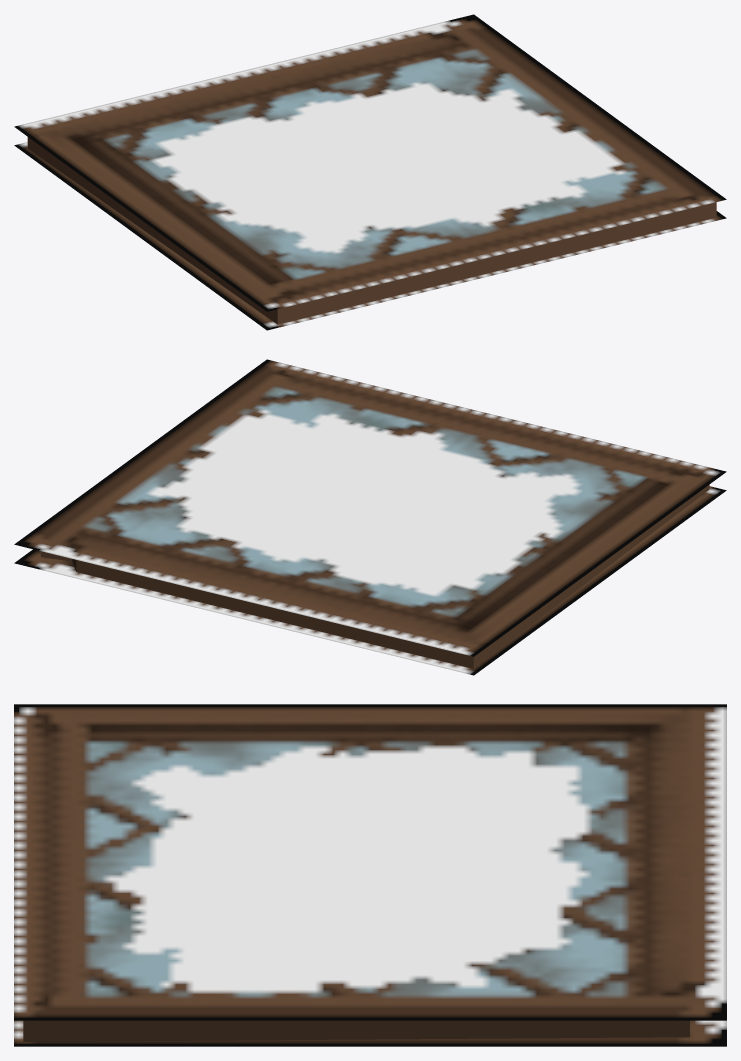
Rendered from pz_native_fixtures_windows_church_91_frame.obj.
3 views of the same model, one above another, from view 1: azimuth 30°, elevation 25°; view 2: azimuth 150°, elevation 25°; view 3: azimuth 270°, elevation 25° (orthographic). The views are drawn at different scales.
Parts seen in each view (by area): view 1: pz_native_fixtures_windows_church_91_frame; view 2: pz_native_fixtures_windows_church_91_frame; view 3: pz_native_fixtures_windows_church_91_frame.
Part boxes in pixels (left/top/right/bottom): pz_native_fixtures_windows_church_91_frame: left=14, top=14, right=726, bottom=330; pz_native_fixtures_windows_church_91_frame: left=14, top=359, right=726, bottom=675; pz_native_fixtures_windows_church_91_frame: left=14, top=704, right=726, bottom=1046.
Size of the model in its own units: 1.03 by 0.04 by 0.9823.
1 material, 1 textured.
